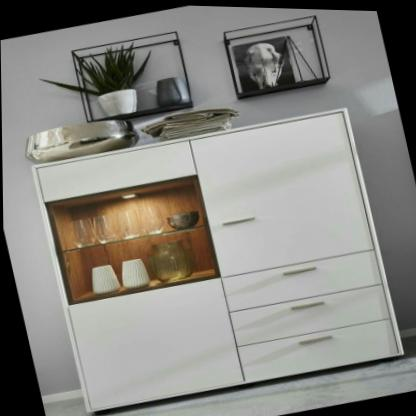Cupboard: (25, 91, 407, 416)
